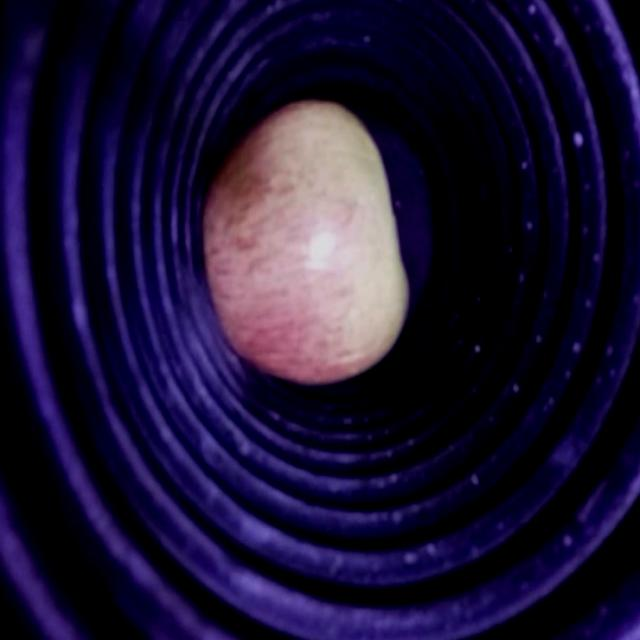obstacles: (201, 98, 409, 385)
